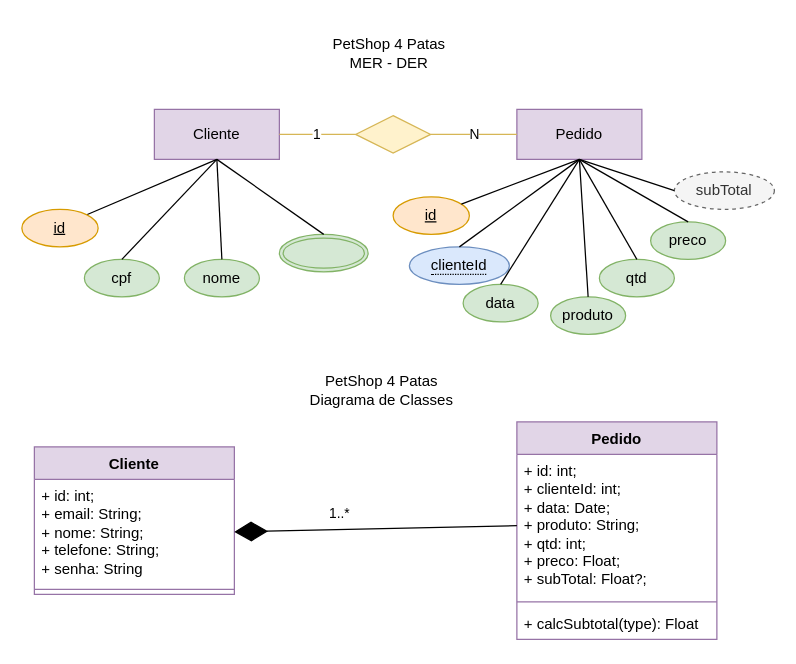
Some shapes in this 796 by 664 pixel diagram are drawn without their labels. The box of each missing label's shape, as (x1, y1, x2, y2) in pixels:
faz: (354, 114, 431, 153)
telefones: (278, 233, 368, 272)
